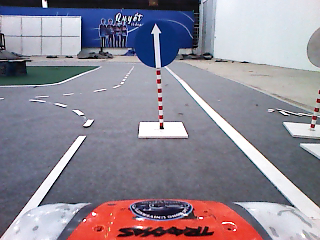straight: (133, 18, 181, 70)
